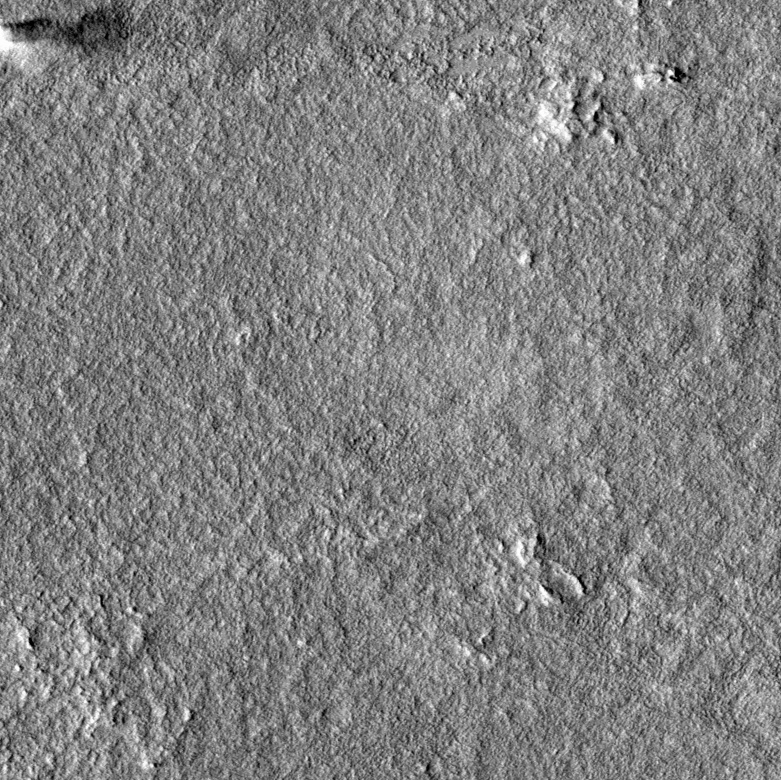dust_devil: (1, 5, 136, 71)
